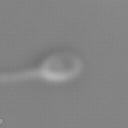normal: (1, 65, 41, 89)
